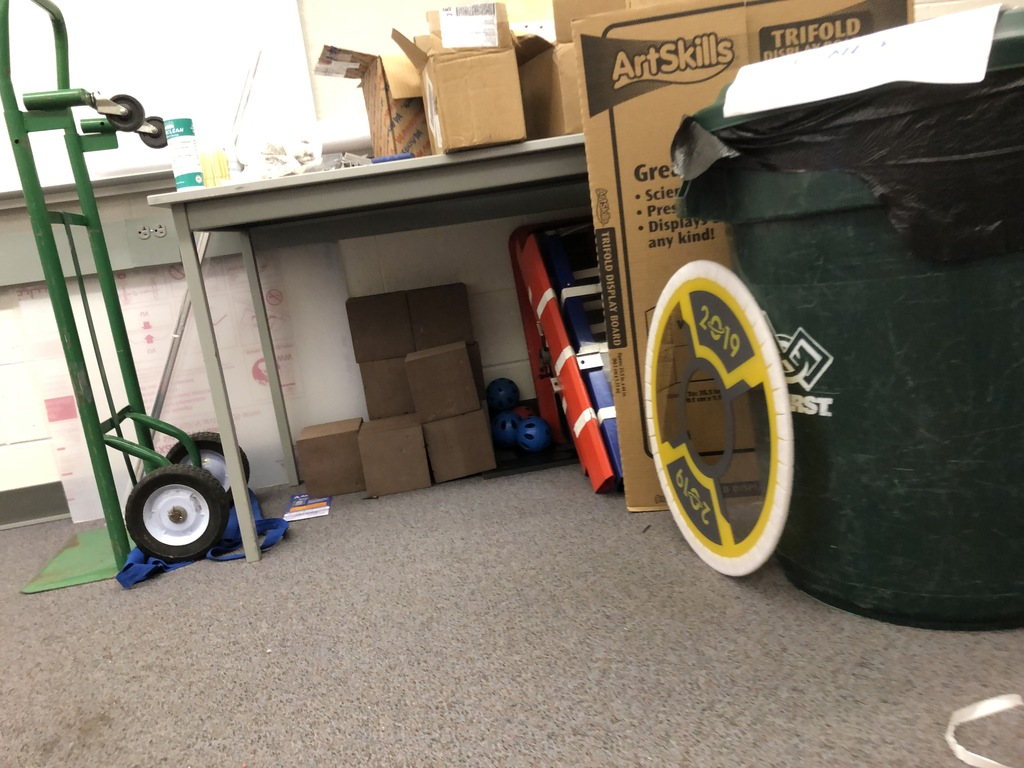hatch_panel: (634, 242, 811, 601)
